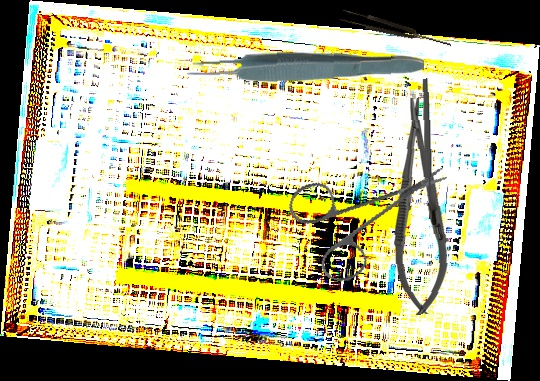Iris Scissors: (271, 126, 450, 304)
Needle Holder: (388, 96, 451, 316)
Surgical Spoon: (421, 78, 434, 220)
Tissue Forceps: (186, 47, 425, 85), (339, 7, 453, 53)
